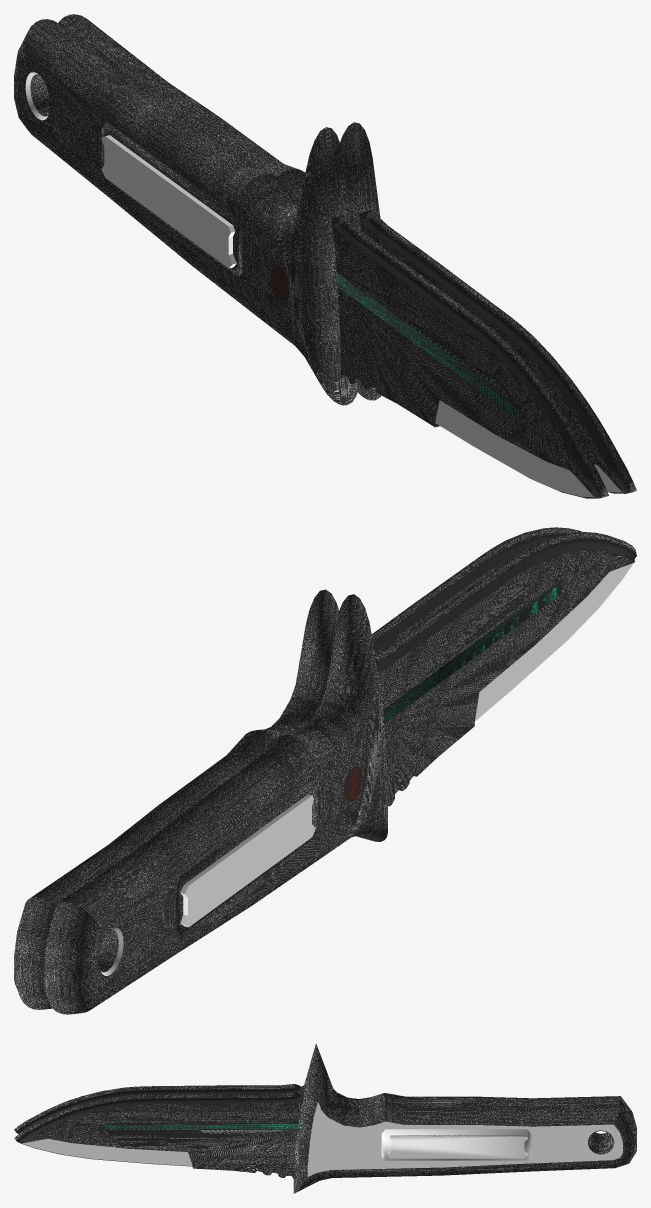
Rendered from model_align.obj.
3 renders of one model, top to bottom at view 1: azimuth 30°, elevation 25°; view 2: azimuth 150°, elevation 25°; view 3: azimuth 270°, elevation 25°, orthographic. The views are drawn at different scales.
Visible parts, largest first — view 1: mesh1_mesh1-geometry; view 2: mesh1_mesh1-geometry; view 3: mesh1_mesh1-geometry.
Part boxes in pixels (left/top/right/bottom): mesh1_mesh1-geometry: left=14, top=14, right=636, bottom=498; mesh1_mesh1-geometry: left=14, top=527, right=636, bottom=1014; mesh1_mesh1-geometry: left=14, top=1043, right=636, bottom=1193.
Bounding box in the file's own units: 0.0189 × 0.0571 × 0.2266.
Materials: 6 (1 with a texture image).
